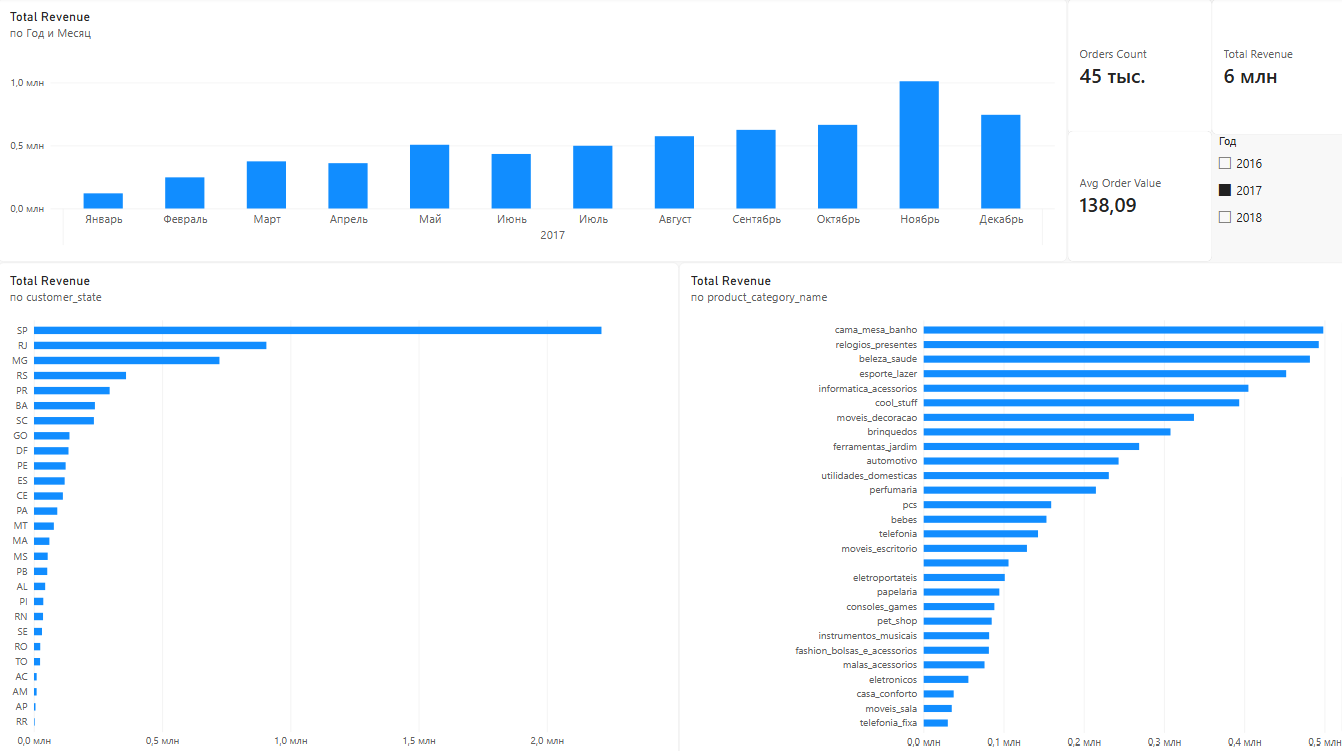

The dashboard page shown, as its layout file describes it:
{"tool":"powerbi","page":{"name":"Страница 1","canvas":[1920,1080],"ordinal":0},"visuals":[{"type":"clusteredColumnChart","fields":{"Category":["olist_orders_dataset.order_purchase_timestamp.Изменение.Иерархия дат.Год","olist_orders_dataset.order_purchase_timestamp.Изменение.Иерархия дат.Месяц"],"Y":["olist_order_items_dataset.Total Revenue"]},"box":[0,2.4,1507.1,371.4],"z":0},{"type":"cardVisual","fields":{"Data":["olist_order_items_dataset.Total Revenue"]},"box":[1711.9,2.4,204.8,192.9],"z":1000},{"type":"cardVisual","fields":{"Data":["olist_order_items_dataset.Orders Count"]},"box":[1507.1,2.4,204.8,192.9],"z":3000},{"type":"cardVisual","fields":{"Data":["olist_order_items_dataset.Avg Order Value"]},"box":[1507.1,188.1,204.8,185.7],"z":3001},{"type":"clusteredBarChart","fields":{"Category":["olist_products_dataset.product_category_name"],"Y":["olist_order_items_dataset.Total Revenue"]},"box":[959.5,373.8,959.5,707.1],"z":3002},{"type":"clusteredBarChart","fields":{"Category":["olist_customers_dataset.customer_state"],"Y":["olist_order_items_dataset.Total Revenue"]},"box":[0,374,960,706],"z":3003},{"type":"slicer","fields":{"Values":["olist_orders_dataset.order_purchase_timestamp.Изменение.Иерархия дат.Год"]},"box":[1712.1,195.6,204.1,178.6],"z":3004}]}

Visuals, with their boxes in screenshot pixels (x1, y1, x2, y2), scaled from the page's 1920x1080 canvas onto the 1342x751 screenshot:
clusteredColumnChart - olist_orders_dataset.order_purchase_timestamp.Изменение.Иерархия дат.Год x olist_orders_dataset.order_purchase_timestamp.Изменение.Иерархия дат.Месяц: {"left": 0, "top": 2, "right": 1053, "bottom": 260}
cardVisual - olist_order_items_dataset.Total Revenue: {"left": 1197, "top": 2, "right": 1340, "bottom": 136}
cardVisual - olist_order_items_dataset.Orders Count: {"left": 1053, "top": 2, "right": 1197, "bottom": 136}
cardVisual - olist_order_items_dataset.Avg Order Value: {"left": 1053, "top": 131, "right": 1197, "bottom": 260}
clusteredBarChart - olist_products_dataset.product_category_name x olist_order_items_dataset.Total Revenue: {"left": 671, "top": 260, "right": 1341, "bottom": 750}
clusteredBarChart - olist_customers_dataset.customer_state x olist_order_items_dataset.Total Revenue: {"left": 0, "top": 260, "right": 671, "bottom": 750}
slicer - olist_orders_dataset.order_purchase_timestamp.Изменение.Иерархия дат.Год: {"left": 1197, "top": 136, "right": 1339, "bottom": 260}
